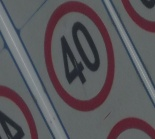Speed limit: (38, 0, 117, 113)
